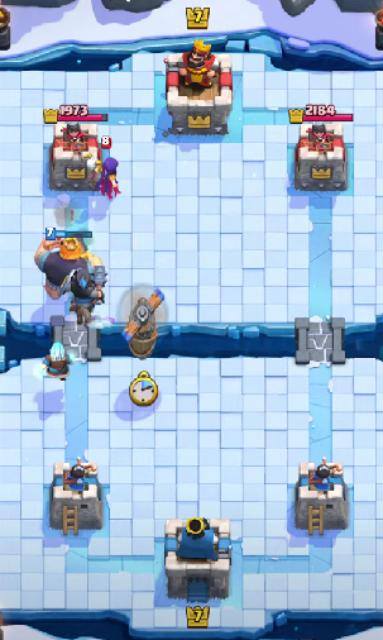ally_melee: (34, 227, 104, 298), (123, 289, 166, 357), (69, 265, 108, 326)
enemy_melee: (96, 134, 122, 198)
